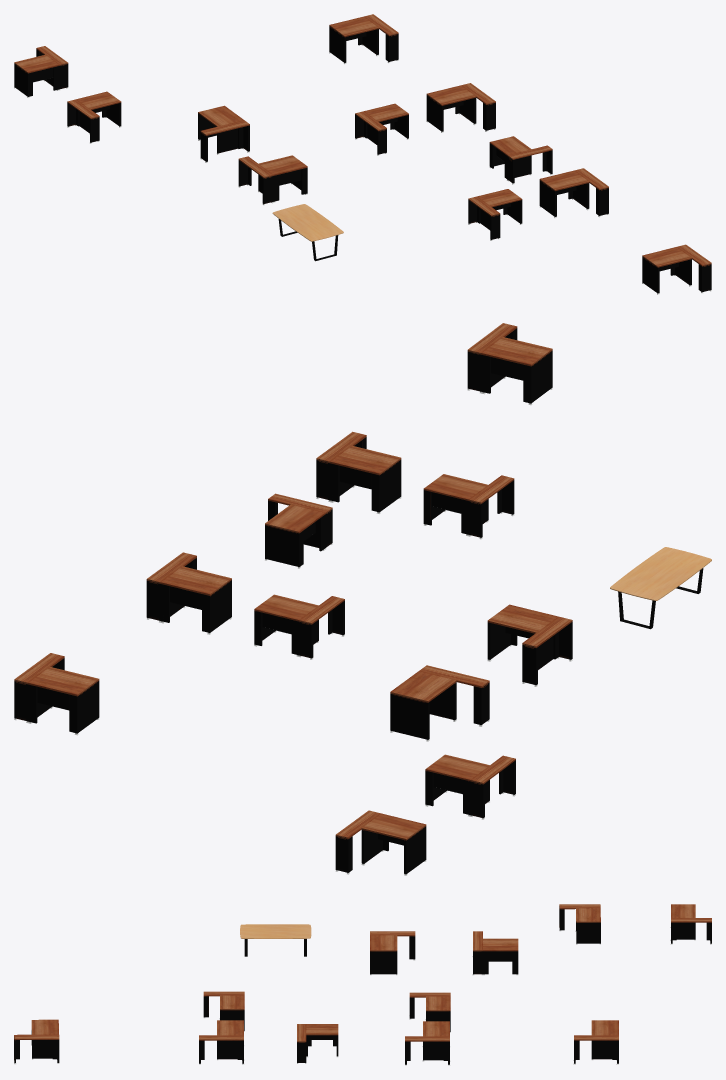
The model's file is escritorios_p1.glb.
3 views of the same model, one above another, from view 1: azimuth 30°, elevation 25°; view 2: azimuth 150°, elevation 25°; view 3: azimuth 270°, elevation 25° (orthographic). The views are drawn at different scales.
Visible parts, largest first — view 1: a_mesa.262, a_mesa.274, a_mesa.269, a_mesa.272, a_mesa.264, a_mesa.263, a_mesa.267, a_mesa.266, a_mesa.265, a_mesa.268, Object001_Material #1_0.003, a_mesa.273; view 2: a_mesa.263, a_mesa.264, a_mesa.269, a_mesa.274, a_mesa.272, a_mesa.262, a_mesa.266, a_mesa.265, a_mesa.273, a_mesa.267, a_mesa.268, Object001_Material #1_0.003; view 3: a_mesa.262, a_mesa.263, a_mesa.274, a_mesa.269, a_mesa.272, a_mesa.264, a_mesa.268, Object001_Material #1_0.003, a_mesa.267, a_mesa.266, a_mesa.273, a_mesa.265.
Boxes of the visible parts, box(x1,y1,x2,y2) form: a_mesa.262: box(238, 155, 307, 205); a_mesa.274: box(642, 244, 711, 294); a_mesa.269: box(329, 14, 398, 64); a_mesa.272: box(426, 83, 495, 132); a_mesa.264: box(539, 168, 608, 218); a_mesa.263: box(198, 105, 249, 162); a_mesa.267: box(14, 46, 68, 97); a_mesa.266: box(489, 136, 552, 184); a_mesa.265: box(468, 189, 522, 240); a_mesa.268: box(67, 91, 121, 143); Object001_Material #1_0.003: box(272, 204, 343, 261); a_mesa.273: box(355, 103, 408, 155); a_mesa.263: box(390, 665, 489, 741); a_mesa.264: box(316, 431, 401, 513); a_mesa.269: box(14, 653, 99, 735); a_mesa.274: box(467, 323, 552, 405); a_mesa.272: box(146, 552, 231, 634); a_mesa.262: box(487, 604, 572, 686); a_mesa.266: box(265, 493, 332, 568); a_mesa.265: box(423, 474, 514, 539); a_mesa.273: box(254, 594, 344, 659); a_mesa.267: box(335, 810, 426, 875); a_mesa.268: box(425, 754, 515, 819); Object001_Material #1_0.003: box(610, 547, 711, 629); a_mesa.262: box(370, 931, 415, 975); a_mesa.263: box(472, 931, 518, 975); a_mesa.274: box(14, 1019, 59, 1064); a_mesa.269: box(573, 1020, 618, 1064); a_mesa.272: box(405, 1021, 450, 1065); a_mesa.264: box(199, 1020, 244, 1064); a_mesa.268: box(559, 904, 600, 944); Object001_Material #1_0.003: box(240, 924, 311, 956); a_mesa.267: box(670, 904, 711, 944); a_mesa.266: box(297, 1024, 338, 1063); a_mesa.273: box(409, 992, 450, 1032); a_mesa.265: box(203, 991, 244, 1031).
Bounding box in the file's own units: 54.83 × 4.62 × 117.
Materials: 2 (2 with a texture image).
